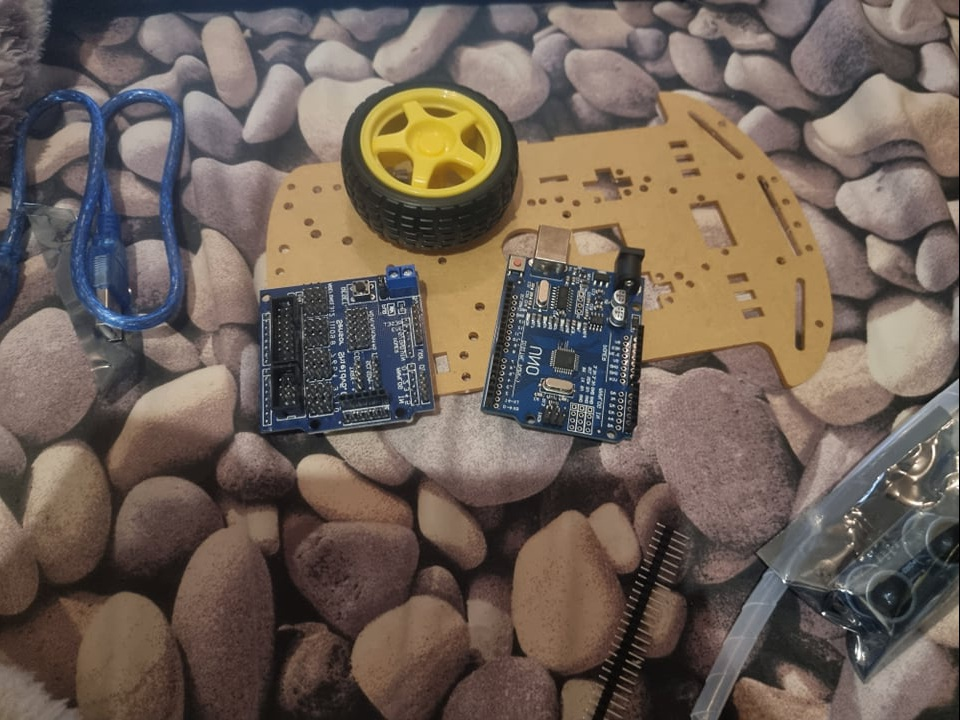5V EXPANSION: (258, 264, 442, 428)
SENSOR: (838, 495, 960, 633)
UNO R3: (479, 227, 646, 446)
